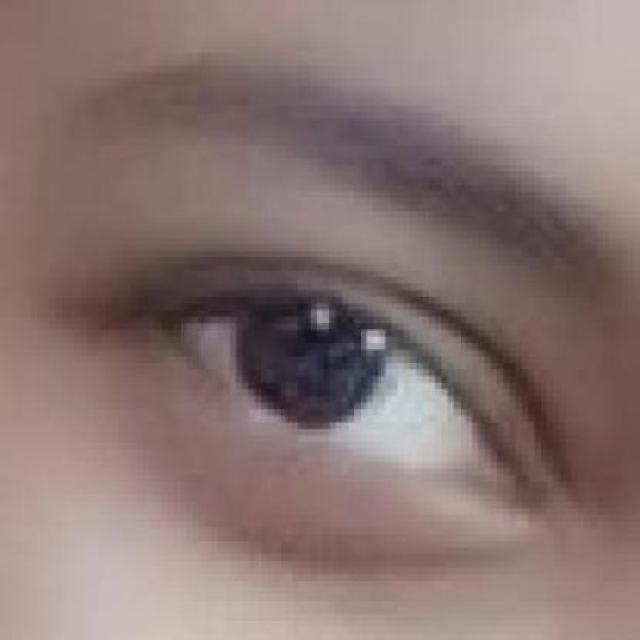awake: (130, 258, 553, 534)
